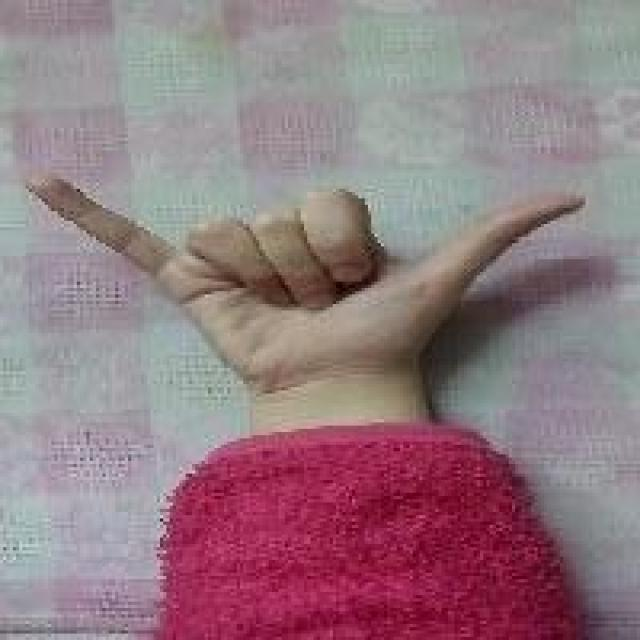Y: (24, 166, 594, 349)
